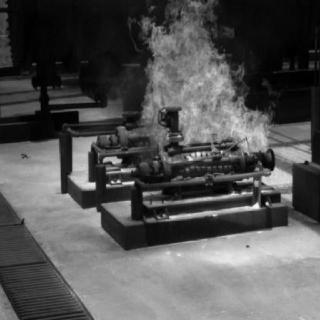Fire: (132, 2, 272, 162)
